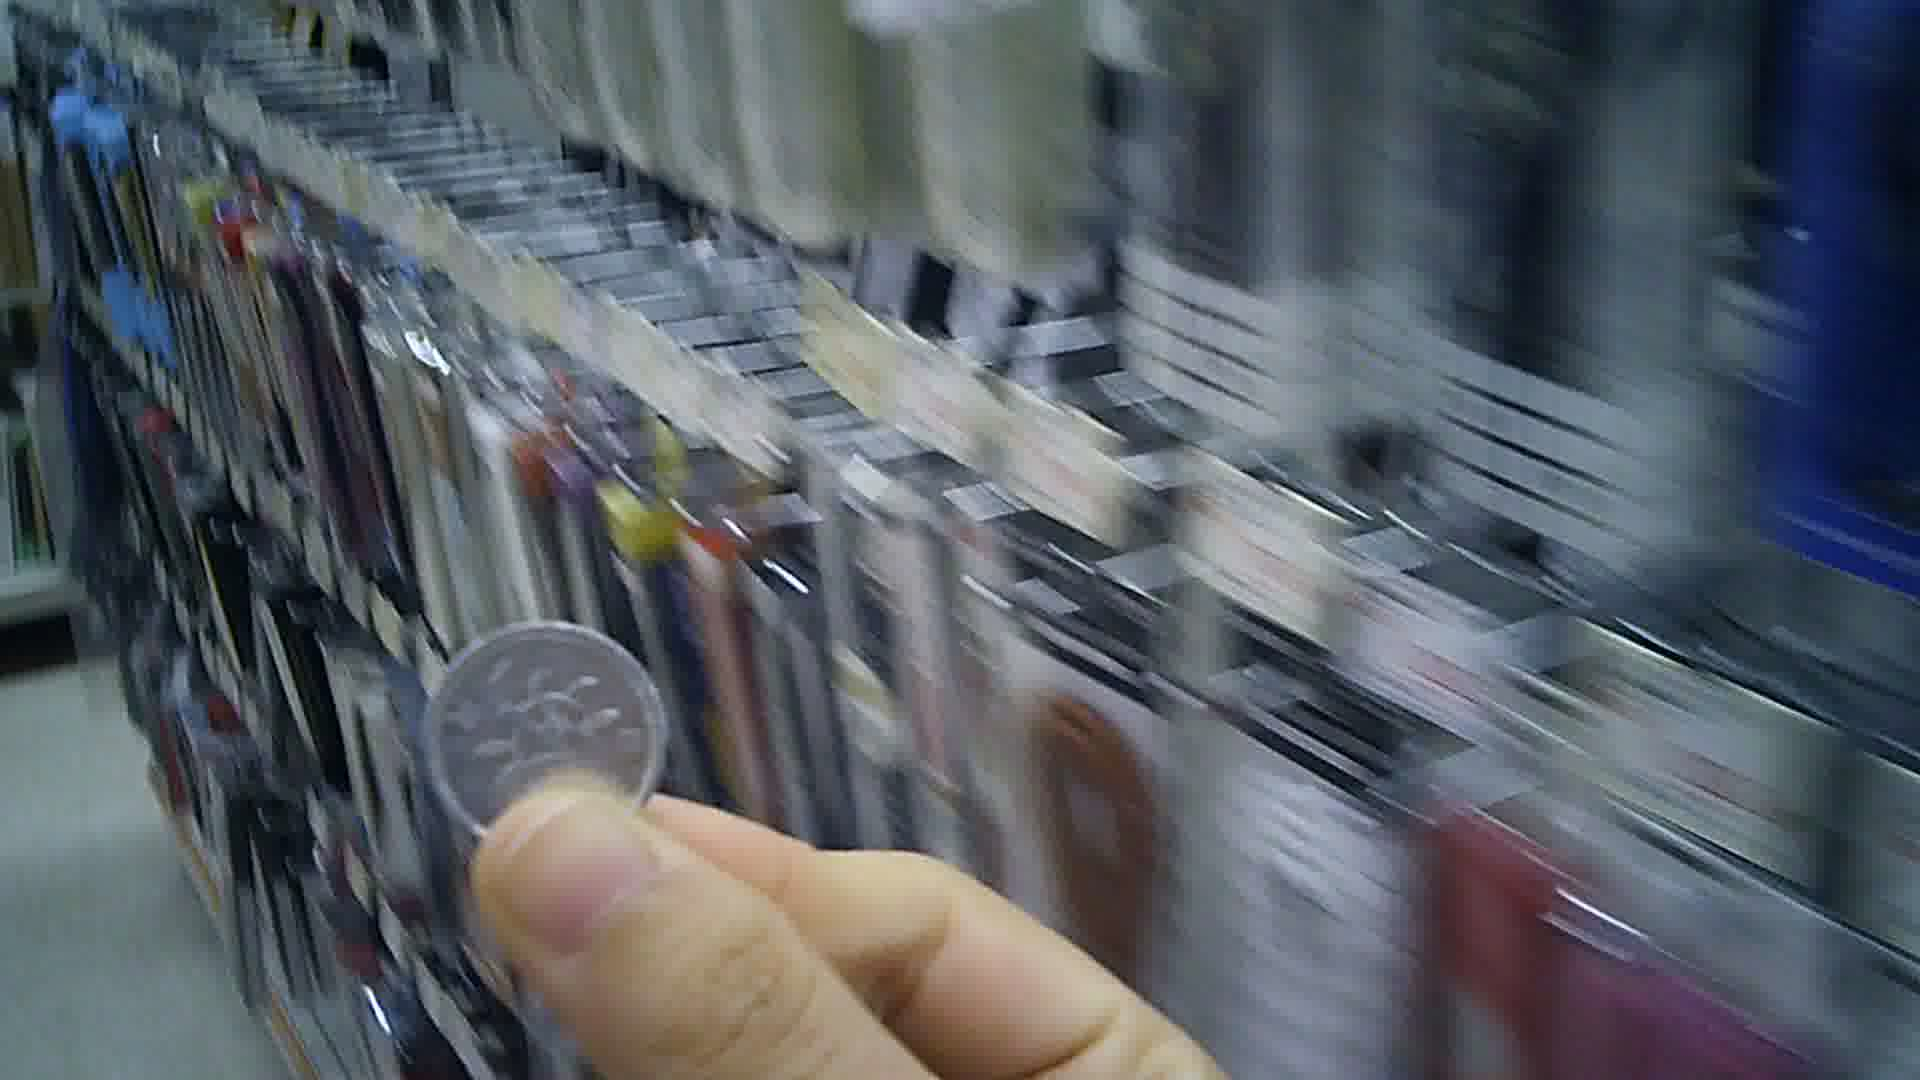1 Yen: (425, 622, 673, 837)
